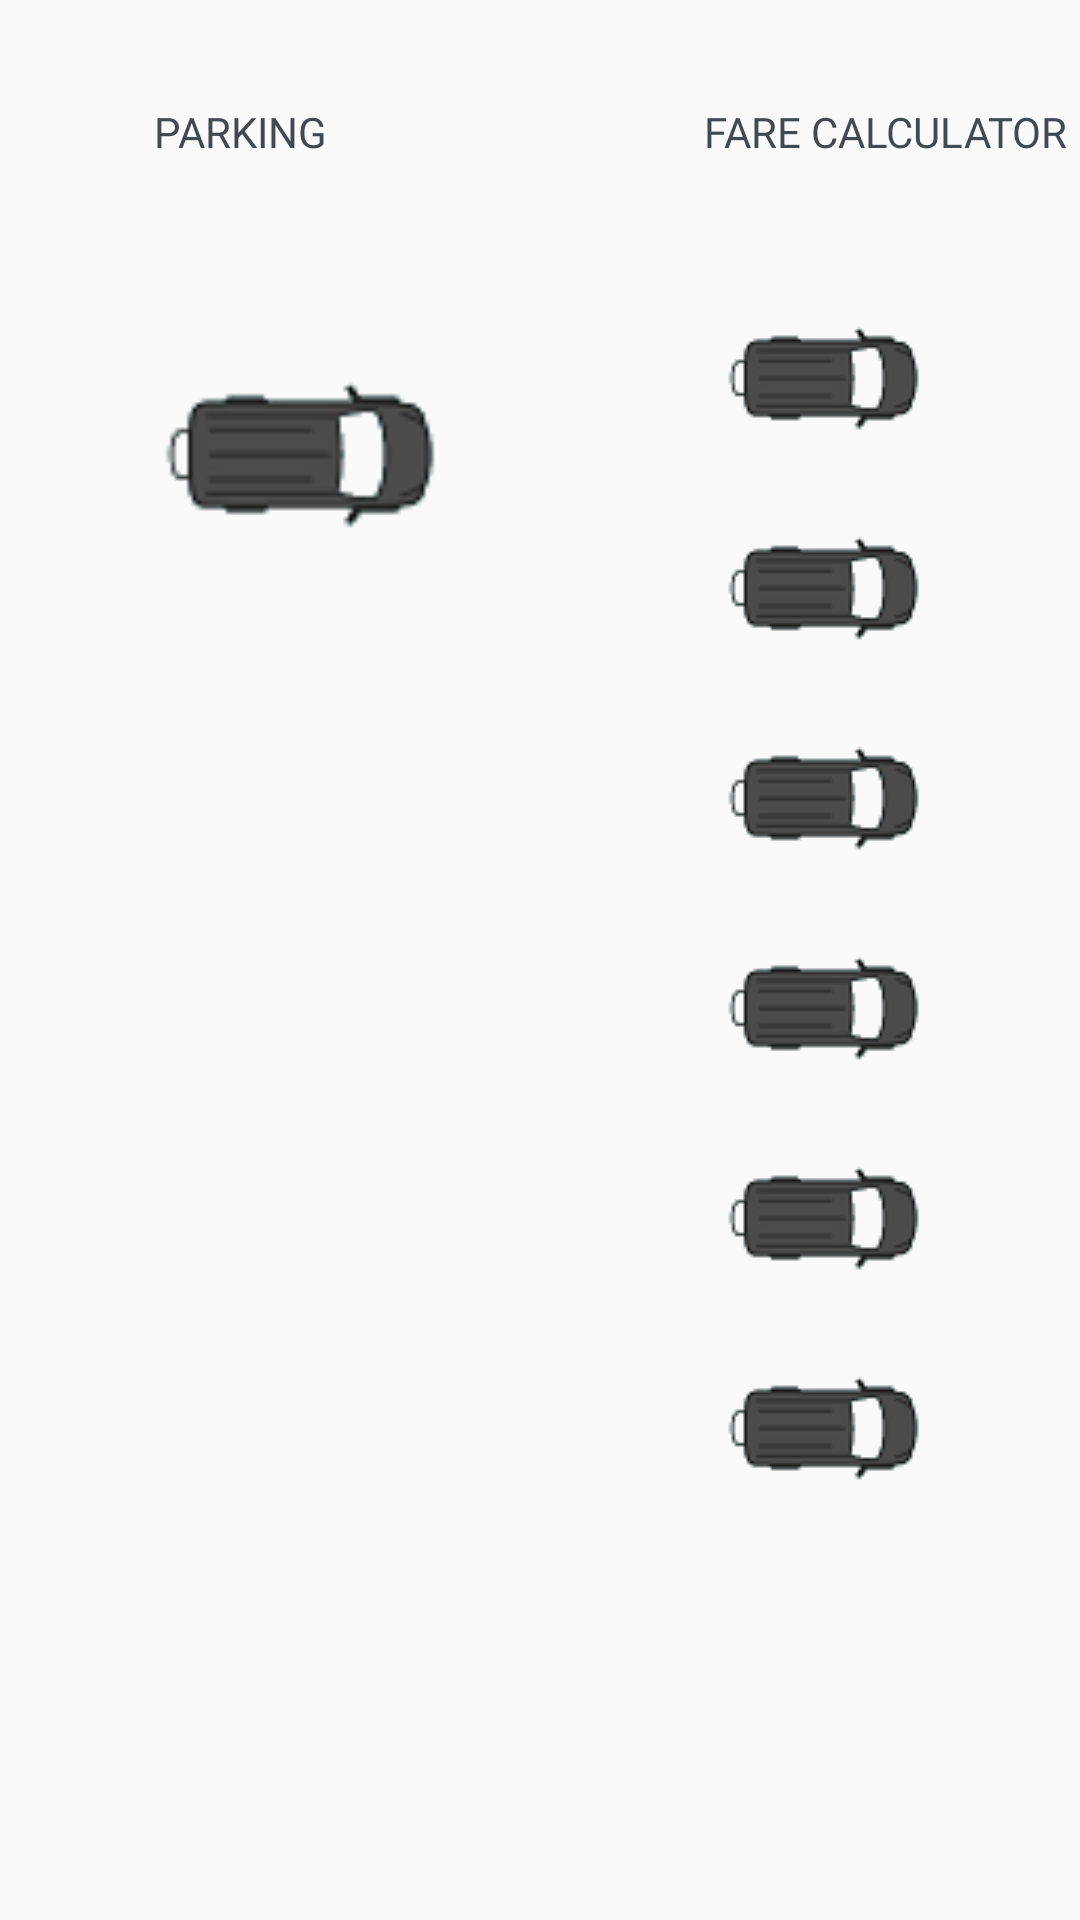

Icons on this 1080 × 1920 Android screen, each with its box as (left=x1, top=y1, right=x2, bottom=y2):
car: (left=728, top=327, right=919, bottom=430), (left=166, top=382, right=435, bottom=527), (left=728, top=537, right=919, bottom=640), (left=728, top=747, right=919, bottom=850), (left=728, top=957, right=919, bottom=1060), (left=728, top=1167, right=919, bottom=1270), (left=728, top=1377, right=919, bottom=1480)
